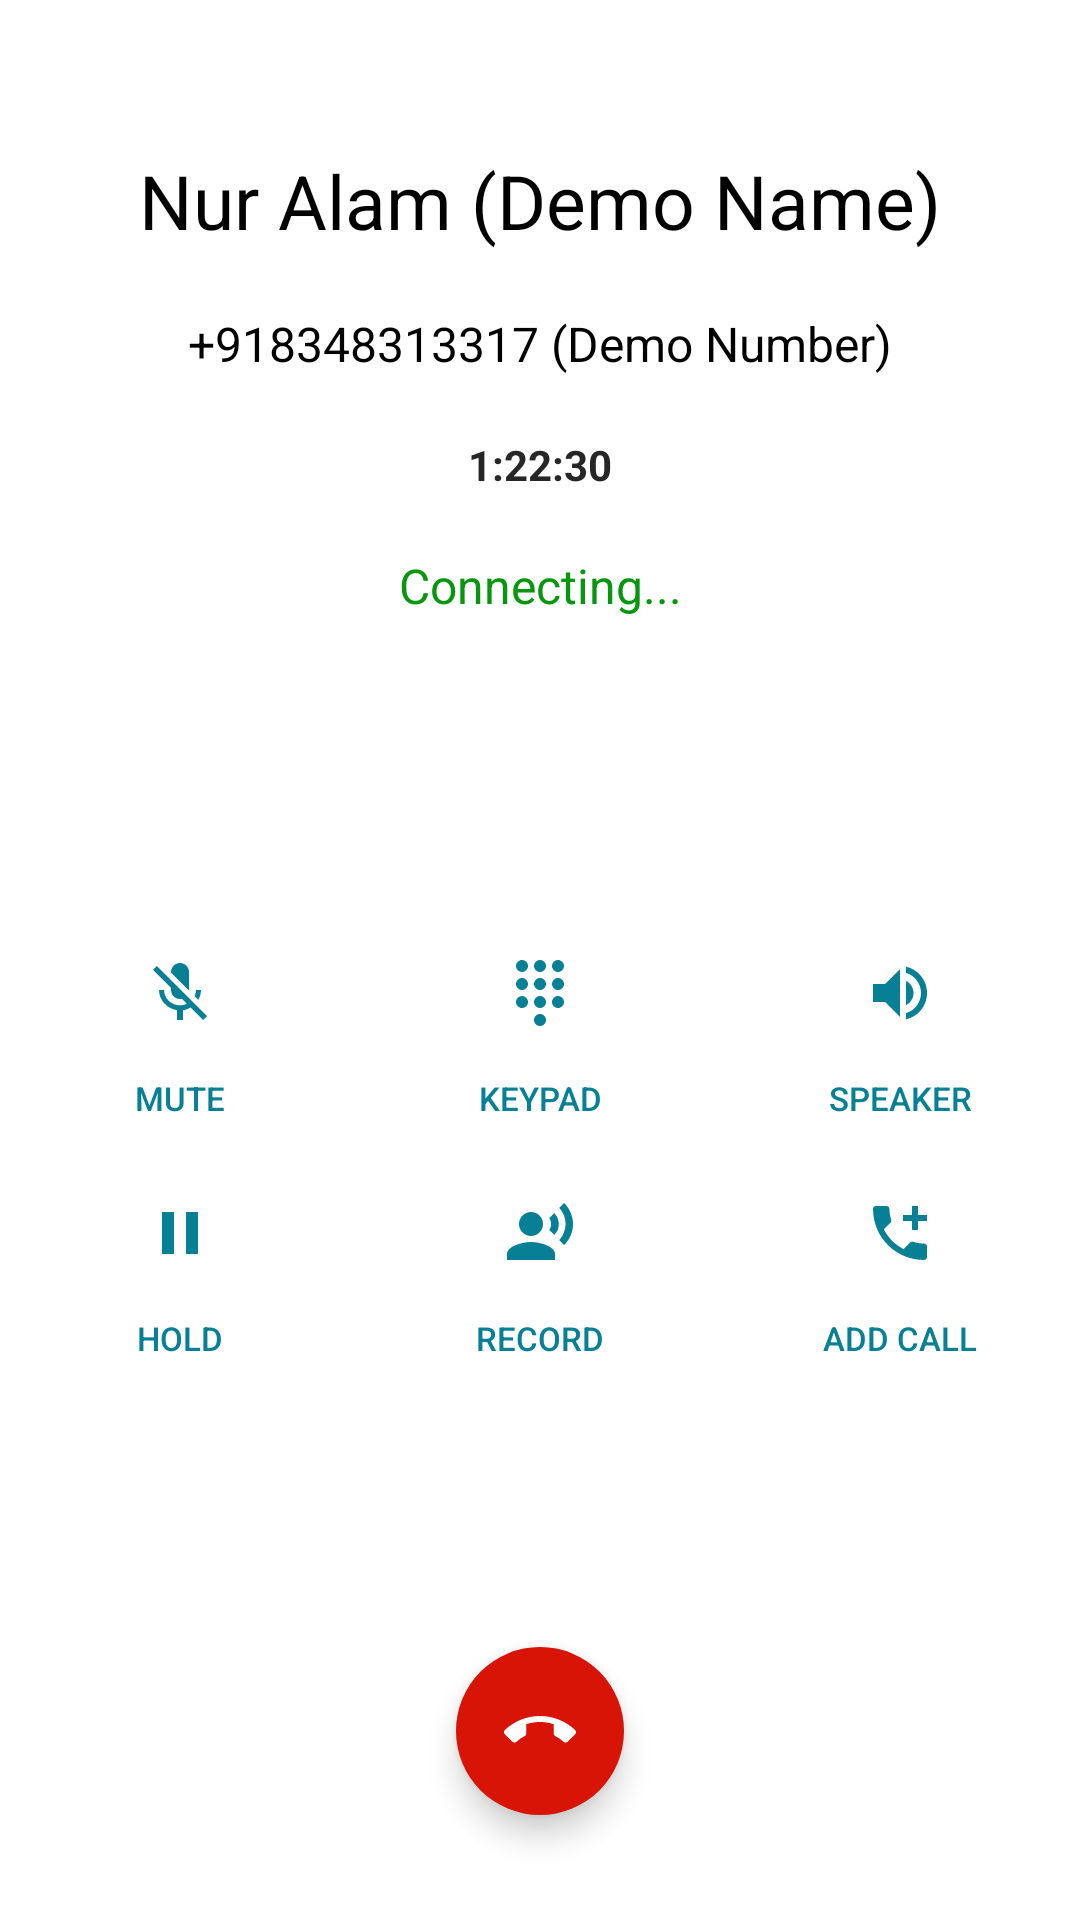

Point at icon controls on the screen. Image size 1080 × 1920, points as point (x, y).
End Call: point (540, 1731)
